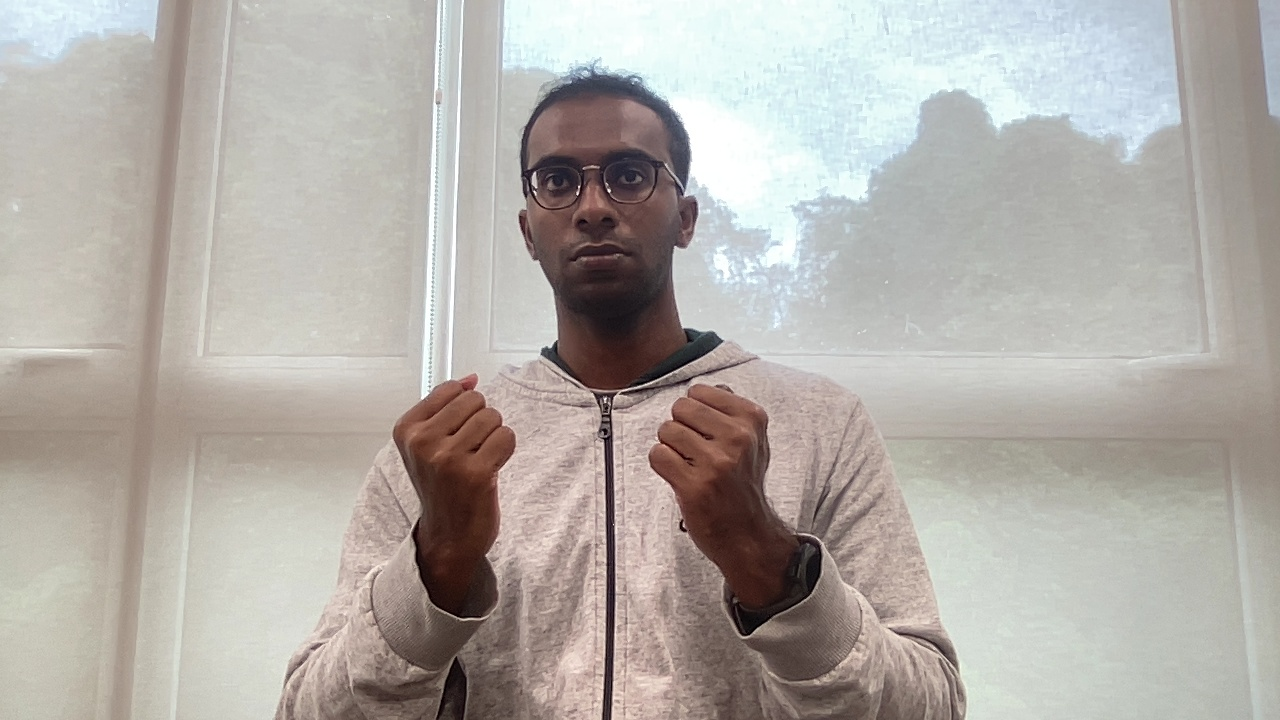finish: (382, 368, 784, 531)
